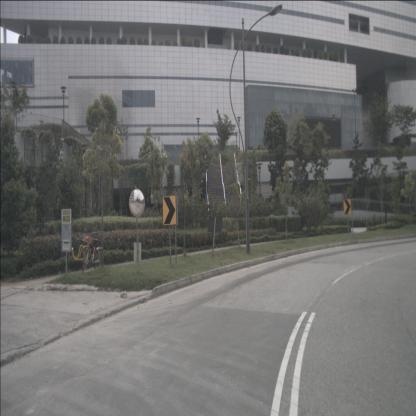vehicle-bicycle: (62, 235, 91, 276), (82, 228, 104, 275)
